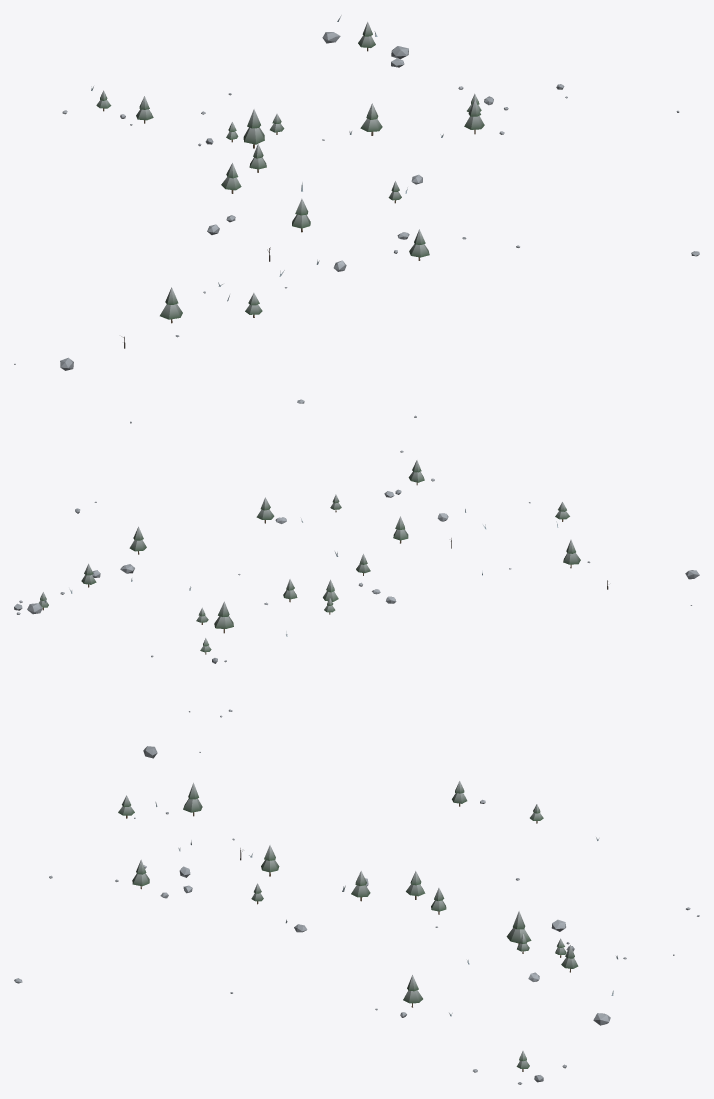
The model's file is frost_land_scatter_c12_09_lod1.glb.
The picture shows the model from 3 angles, top to bottom: view 1: azimuth 30°, elevation 25°; view 2: azimuth 150°, elevation 25°; view 3: azimuth 270°, elevation 25°; orthographic projection. The views are drawn at different scales.
Visible parts, largest first — view 1: frost_land_scatter_c12_09_lod1; view 2: frost_land_scatter_c12_09_lod1; view 3: frost_land_scatter_c12_09_lod1.
Part boxes in pixels (left/top/right/bottom): frost_land_scatter_c12_09_lod1: left=14, top=15, right=699, bottom=370; frost_land_scatter_c12_09_lod1: left=14, top=399, right=699, bottom=717; frost_land_scatter_c12_09_lod1: left=14, top=746, right=699, bottom=1084.
Bounding box in the file's own units: 247 × 47.94 × 231.
